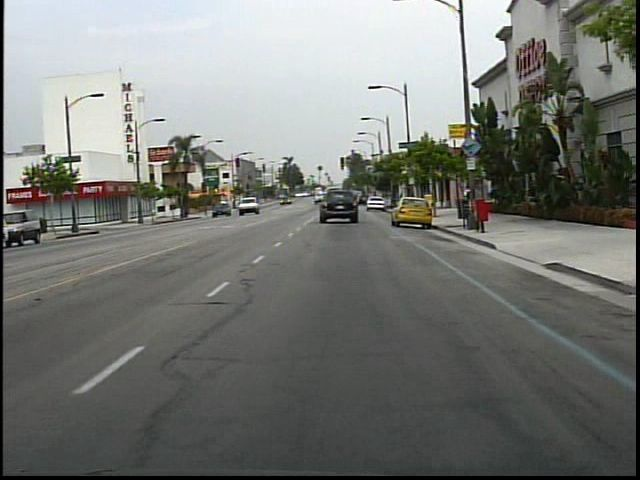person: (462, 184, 484, 221)
